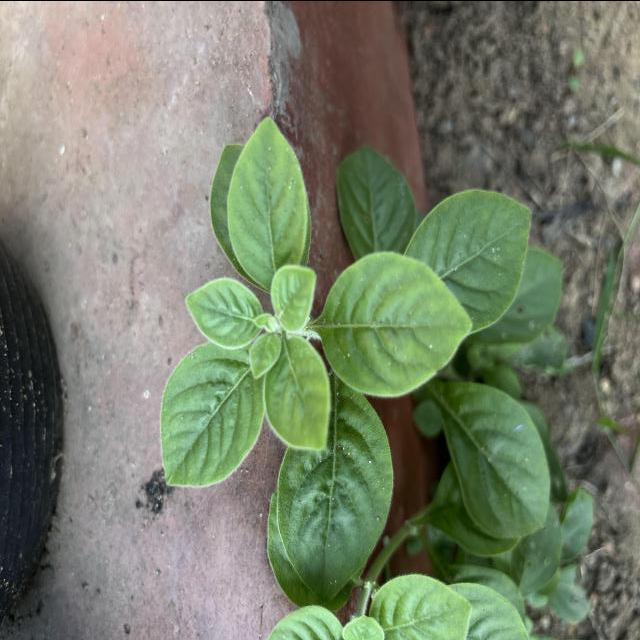Aerva lanata: (272, 391, 397, 609), (399, 183, 536, 334), (156, 340, 265, 490)
